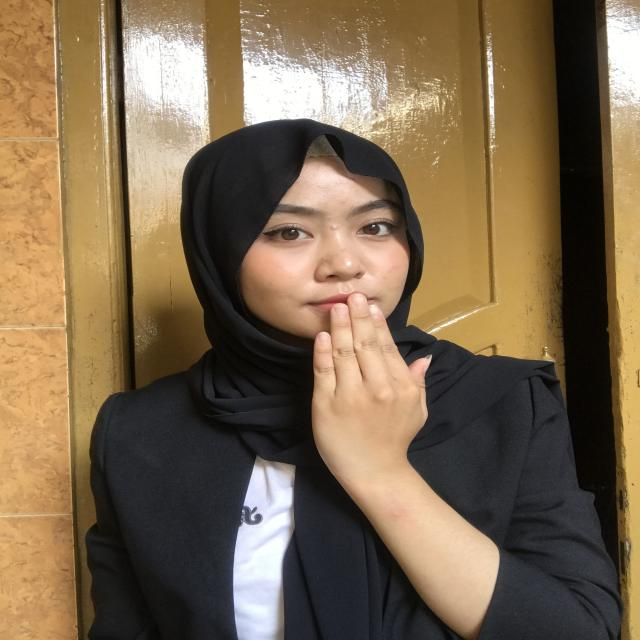ganteng: (270, 288, 458, 510)
